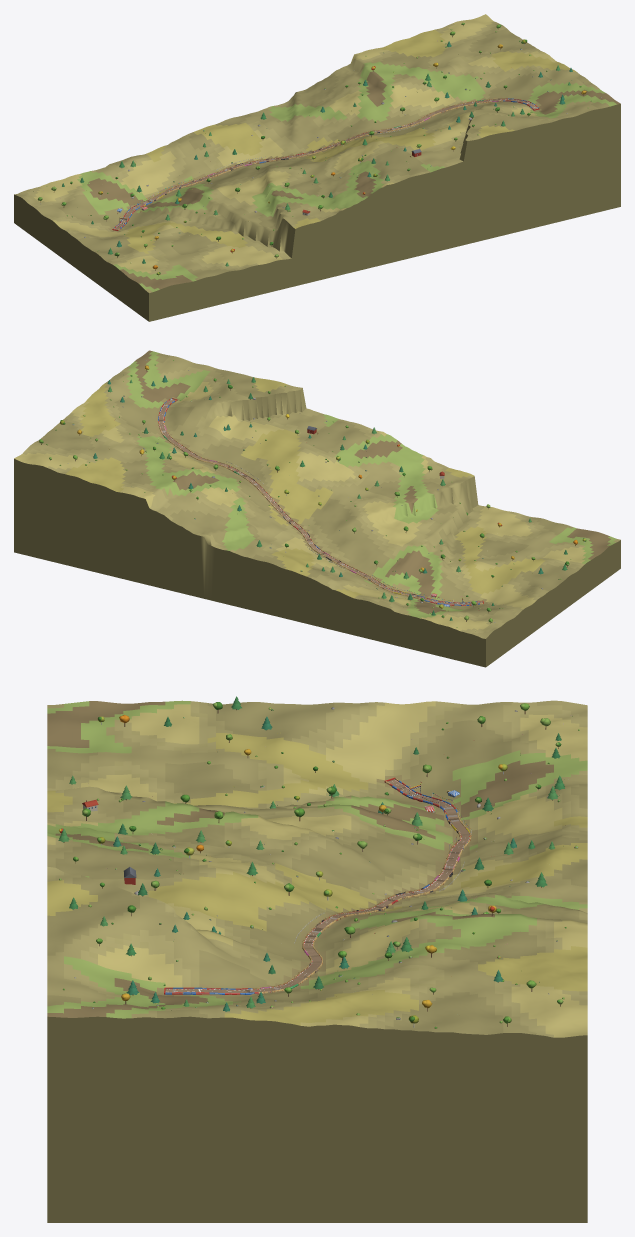
The picture shows the model from 3 angles, top to bottom: view 1: azimuth 30°, elevation 25°; view 2: azimuth 150°, elevation 25°; view 3: azimuth 270°, elevation 25°; orthographic projection. The views are drawn at different scales.
Parts seen in each view (by area): view 1: grass, hay, road, pines, leafy trees; view 2: grass, road, hay, pines, leafy trees; view 3: grass, pines, road, leafy trees, hay.
Boxes of the visible parts, x1=… form: grass: x1=14, y1=14, x2=620, y2=321; hay: x1=112, y1=98, x2=539, y2=230; road: x1=114, y1=99, x2=537, y2=229; pines: x1=62, y1=41, x2=572, y2=266; leafy trees: x1=37, y1=22, x2=530, y2=274; grass: x1=14, y1=350, x2=620, y2=667; road: x1=158, y1=399, x2=482, y2=604; hay: x1=158, y1=398, x2=483, y2=605; pines: x1=93, y1=375, x2=567, y2=620; leafy trees: x1=39, y1=378, x2=586, y2=622; grass: x1=47, y1=700, x2=587, y2=1222; pines: x1=58, y1=696, x2=564, y2=1011; road: x1=165, y1=779, x2=470, y2=992; leafy trees: x1=73, y1=702, x2=563, y2=1023; hay: x1=164, y1=777, x2=471, y2=994.
Size of the model in its own units: 645 by 142 by 320.
